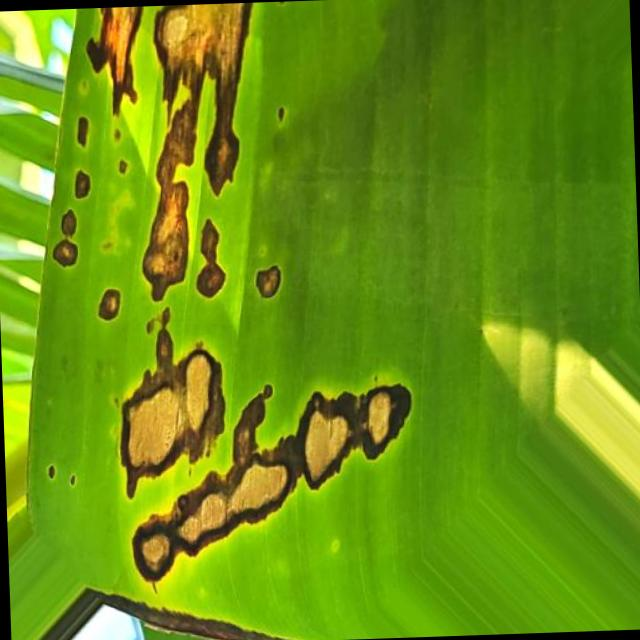Banana_Black_Sigatoka: (35, 0, 443, 548)
